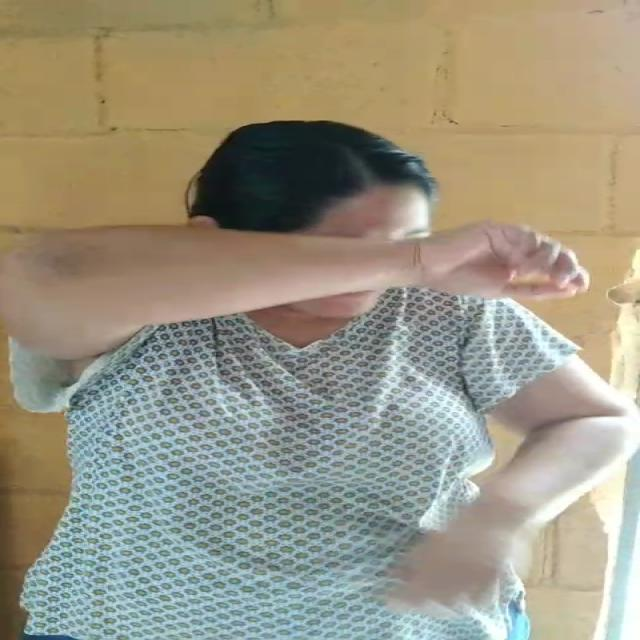7_mano_rostro: (184, 223, 562, 301)
